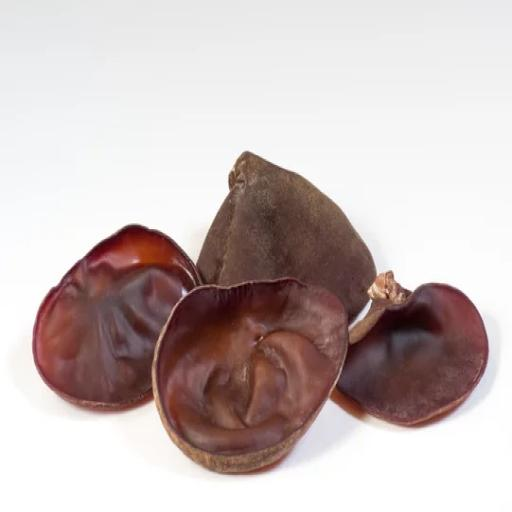Wood Ear Mushroom: (29, 146, 499, 479)
